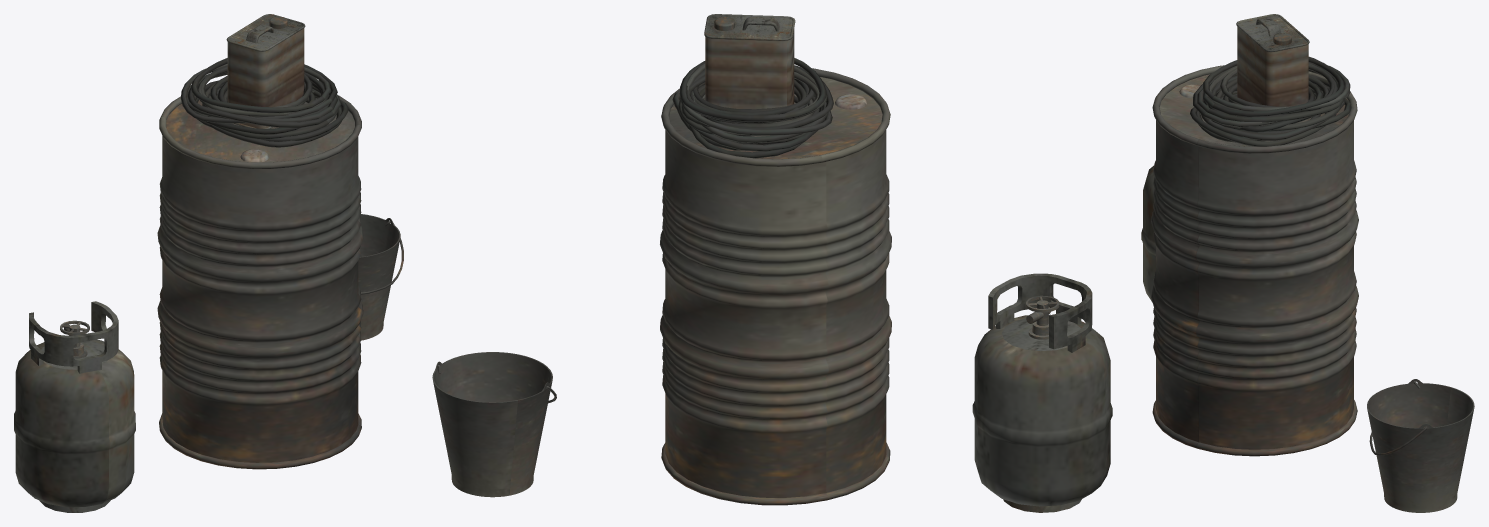
Rendered from structure_004.glb.
The picture shows the model from 3 angles, left to right: view 1: azimuth 30°, elevation 25°; view 2: azimuth 150°, elevation 25°; view 3: azimuth 270°, elevation 25°; orthographic projection. The views are drawn at different scales.
Visible parts, largest first — view 1: Building_12_021; view 2: Building_12_021; view 3: Building_12_021.
Part boxes in pixels (box(x1,y1,x2,y2)): Building_12_021: box(14, 14, 403, 512); Building_12_021: box(432, 14, 1112, 512); Building_12_021: box(1141, 14, 1474, 512).
Size of the model in its own units: 4.26 by 3.31 by 2.53.
Materials: 1 (1 with a texture image).
